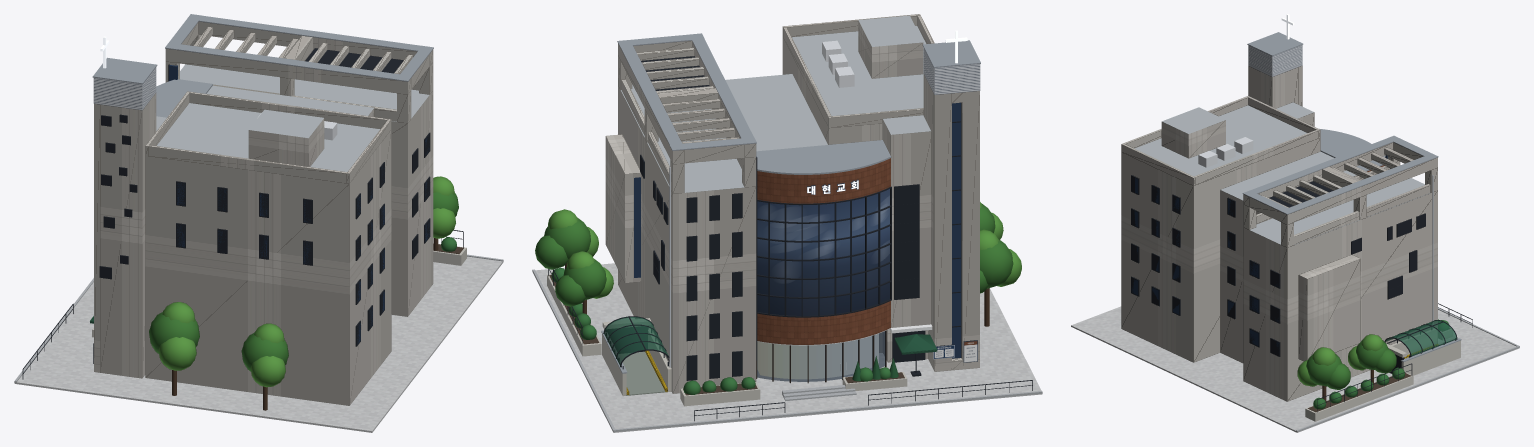
File: place_대현교회.glb
The picture shows the model from 3 angles, left to right: view 1: azimuth 30°, elevation 25°; view 2: azimuth 150°, elevation 25°; view 3: azimuth 270°, elevation 25°; orthographic projection. The views are drawn at different scales.
Visible parts, largest first — view 1: SW_MainRearWing_5F, Forecourt_GraniteSidewalkSlab, Tower_MainShaft_Rear, NE_5F_GraniteBody, Merged_NE_PergolaFrame, Merged_Rear_Parapet, Merged_NE_PergolaCoping, Merged_Env_TreeLeavesBright, SW_Roof_StairPenthouse, Merged_Env_TreeLeaves, Merged_SW_WinFrames, Merged_NE_PergolaBeams (+13 smaller); view 2: NE_5F_GraniteBody, Forecourt_GraniteSidewalkSlab, Sanctuary_CurvedCurtainWall, Merged_Tower_FrontPiers, SW_MainRearWing_5F, TransitionBay_UpperStone, Central_SanctuaryRearBlock, Merged_Env_TreeLeaves, Merged_NE_PergolaFrame, Merged_NE_PergolaBeams, Sanctuary_1F_GlassArc, Merged_NE_FrontFrames (+34 smaller); view 3: NE_5F_GraniteBody, SW_MainRearWing_5F, Forecourt_GraniteSidewalkSlab, NE_Cantilevered_BlankStoneBox, Central_SanctuaryRearBlock, Merged_NE_PergolaFrame, Merged_Rear_Parapet, Merged_NE_PergolaCoping, SW_Roof_StairPenthouse, Merged_SE_WinFrames, Merged_Env_TreeLeaves, Merged_NE_PergolaBeams (+18 smaller).
Part boxes in pixels (x1,y1,x2,y2): SW_MainRearWing_5F: (145, 103, 391, 405); Forecourt_GraniteSidewalkSlab: (14, 256, 503, 432); Tower_MainShaft_Rear: (100, 93, 156, 378); NE_5F_GraniteBody: (180, 64, 433, 316); Merged_NE_PergolaFrame: (165, 21, 433, 123); Merged_Rear_Parapet: (145, 91, 391, 183); Merged_NE_PergolaCoping: (165, 14, 433, 81); Merged_Env_TreeLeavesBright: (158, 176, 455, 387); SW_Roof_StairPenthouse: (248, 109, 324, 166); Merged_Env_TreeLeaves: (149, 192, 458, 371); Merged_SW_WinFrames: (176, 181, 312, 265); Merged_NE_PergolaBeams: (193, 26, 412, 74); NE_5F_GraniteBody: (618, 84, 756, 393); Forecourt_GraniteSidewalkSlab: (533, 263, 1042, 432); Sanctuary_CurvedCurtainWall: (757, 189, 889, 315); Merged_Tower_FrontPiers: (933, 91, 979, 371); SW_MainRearWing_5F: (782, 26, 926, 352); TransitionBay_UpperStone: (882, 115, 931, 327); Central_SanctuaryRearBlock: (725, 74, 827, 151); Merged_Env_TreeLeaves: (535, 203, 1013, 306); Merged_NE_PergolaFrame: (618, 40, 756, 193); Merged_NE_PergolaBeams: (637, 47, 739, 143); Sanctuary_1F_GlassArc: (757, 331, 885, 381); Merged_NE_FrontFrames: (686, 193, 742, 380); NE_5F_GraniteBody: (1243, 178, 1437, 401); SW_MainRearWing_5F: (1121, 105, 1320, 362); Forecourt_GraniteSidewalkSlab: (1071, 306, 1519, 432); NE_Cantilevered_BlankStoneBox: (1298, 255, 1360, 361); Central_SanctuaryRearBlock: (1220, 151, 1357, 363); Merged_NE_PergolaFrame: (1243, 142, 1437, 247); Merged_Rear_Parapet: (1121, 96, 1320, 185); Merged_NE_PergolaCoping: (1242, 135, 1438, 214); SW_Roof_StairPenthouse: (1161, 107, 1225, 158); Merged_SE_WinFrames: (1131, 175, 1235, 318); Merged_Env_TreeLeaves: (1306, 340, 1396, 389); Merged_NE_PergolaBeams: (1262, 147, 1413, 207).
Bounding box in the file's own units: 46.78 × 29.83 × 46.47.
38 materials, 16 textured.
